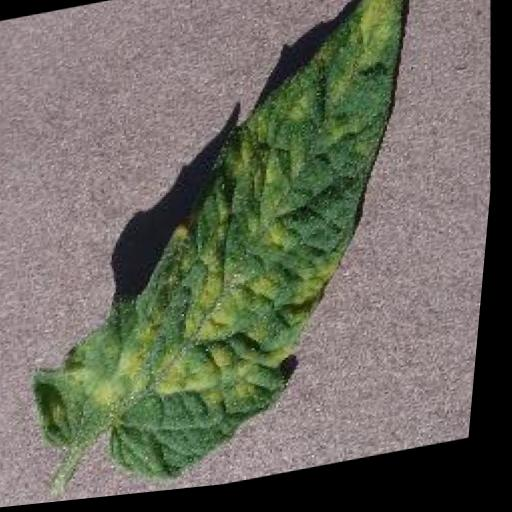Leaf Mold: (6, 0, 451, 504)
